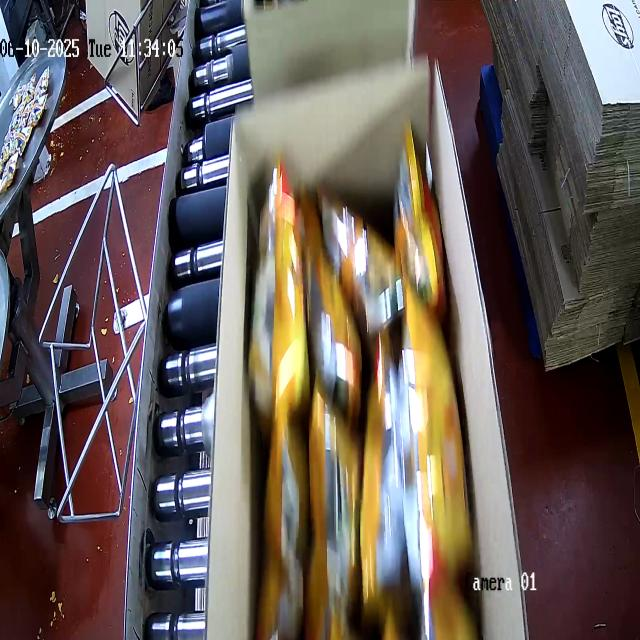FRENCH_CHEESE: (258, 162, 478, 640)
